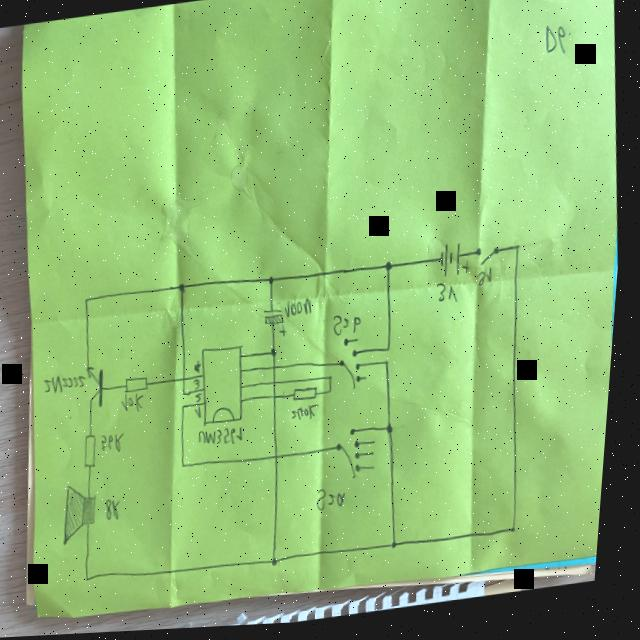capacitor: (262, 308, 294, 343)
crossover: (184, 376, 193, 386), (274, 366, 283, 375), (278, 455, 286, 464), (275, 395, 283, 403), (275, 381, 282, 389)
junction: (390, 426, 400, 439), (386, 263, 396, 276), (515, 246, 525, 258), (180, 283, 190, 294), (270, 277, 279, 288), (273, 350, 282, 361), (278, 559, 287, 570), (397, 543, 406, 554), (516, 529, 525, 540), (91, 575, 99, 584), (387, 362, 395, 370), (185, 463, 193, 471), (389, 348, 396, 357), (86, 296, 93, 305), (185, 404, 192, 412), (186, 391, 193, 399), (331, 377, 338, 384), (332, 391, 338, 397)
resistor: (86, 433, 105, 471), (125, 374, 156, 397), (296, 387, 324, 405)
source: (438, 243, 475, 285)
switch: (337, 428, 385, 487), (339, 337, 375, 396), (477, 247, 504, 272)
text: (45, 369, 93, 397), (201, 426, 251, 452), (334, 314, 367, 341), (321, 488, 354, 515), (286, 299, 317, 323), (105, 432, 131, 456), (294, 405, 325, 425), (439, 285, 463, 310), (124, 392, 151, 414), (477, 268, 499, 292), (110, 497, 130, 523), (197, 361, 207, 376), (198, 407, 208, 421), (199, 394, 208, 405), (197, 380, 205, 392)
transistor: (87, 364, 113, 409)
